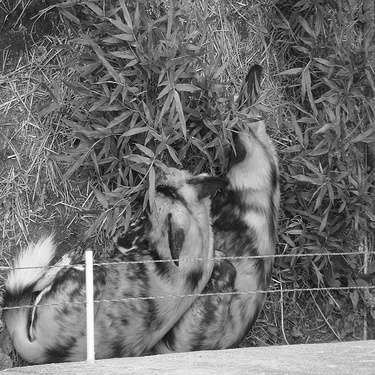dog: (131, 38, 309, 357), (2, 135, 223, 365)
